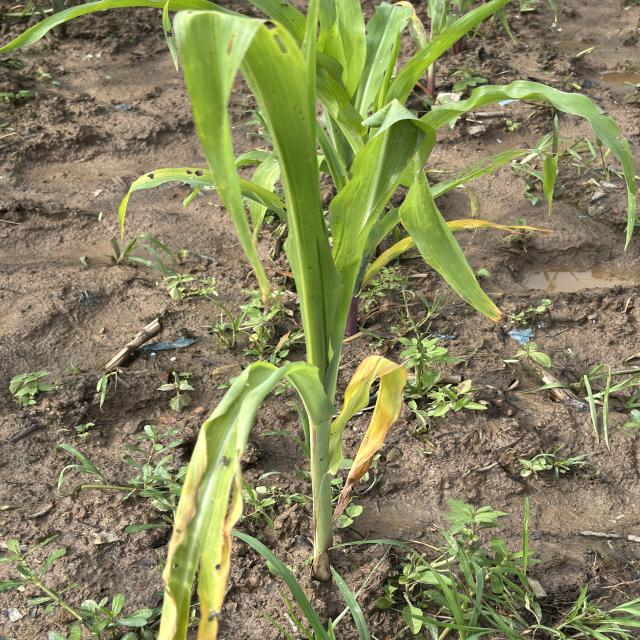maize: (205, 19, 374, 572), (364, 21, 640, 279)
weed: (412, 340, 640, 503), (26, 378, 163, 640), (404, 526, 639, 640), (120, 248, 210, 404)
